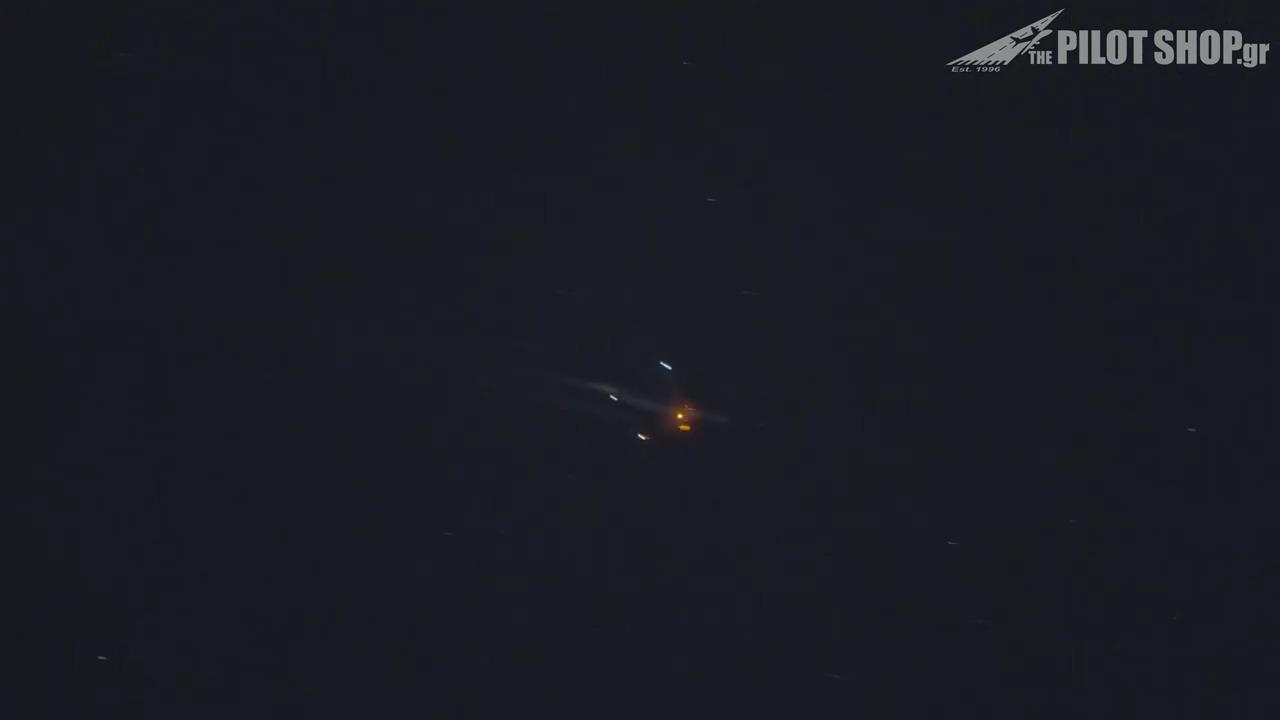Plane: (509, 338, 814, 464)
